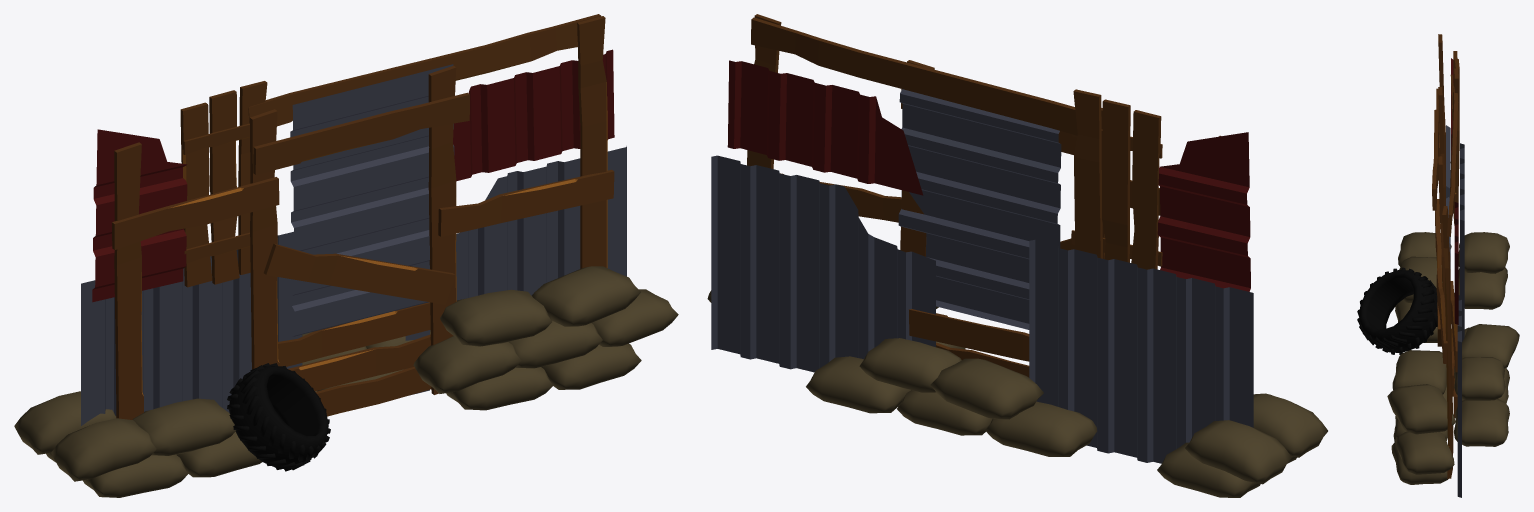
File: Barrier_Trash.obj
The picture shows the model from 3 angles, left to right: view 1: azimuth 30°, elevation 25°; view 2: azimuth 150°, elevation 25°; view 3: azimuth 270°, elevation 25°; orthographic projection. The views are drawn at different scales.
Parts seen in each view (by area): view 1: Barrier_Trash_Cube.040; view 2: Barrier_Trash_Cube.040; view 3: Barrier_Trash_Cube.040.
Part boxes in pixels (x1,y1,x2,y2): Barrier_Trash_Cube.040: (14,14,678,497); Barrier_Trash_Cube.040: (707,14,1327,497); Barrier_Trash_Cube.040: (1357,34,1519,497).
Size of the model in its own units: 4.49 by 2.51 by 1.31.
